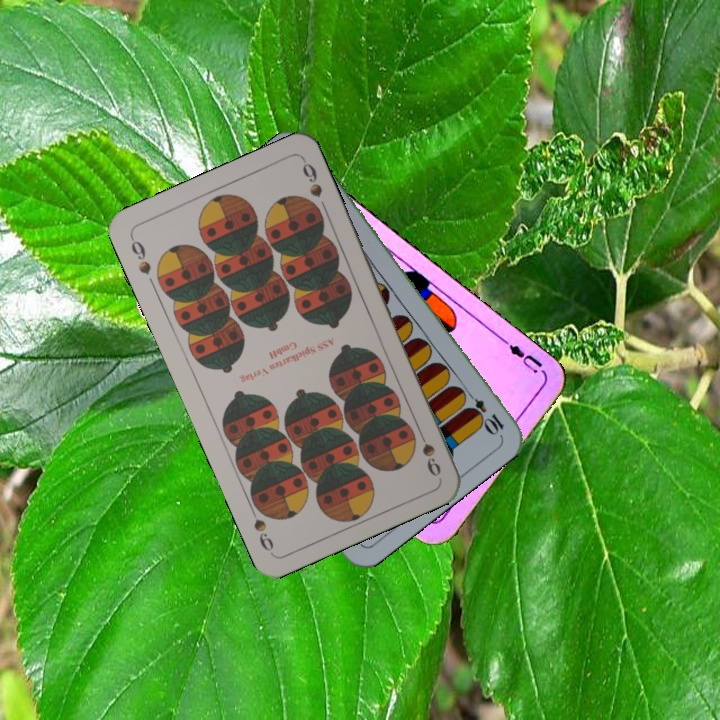E10: (460, 386, 507, 437)
EU: (505, 340, 545, 376)
S9: (412, 422, 444, 480), (126, 232, 154, 277)
